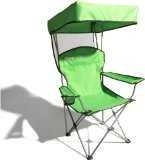obstacle: (48, 0, 143, 159)
